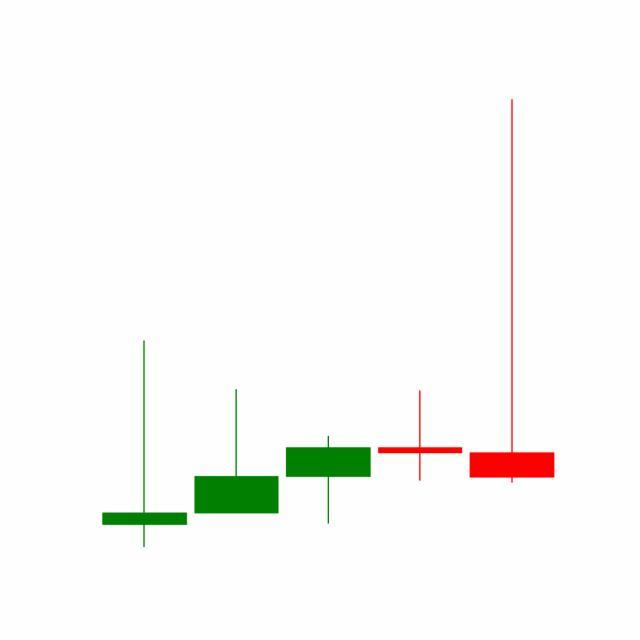Spinning Top: (374, 389, 468, 483)
